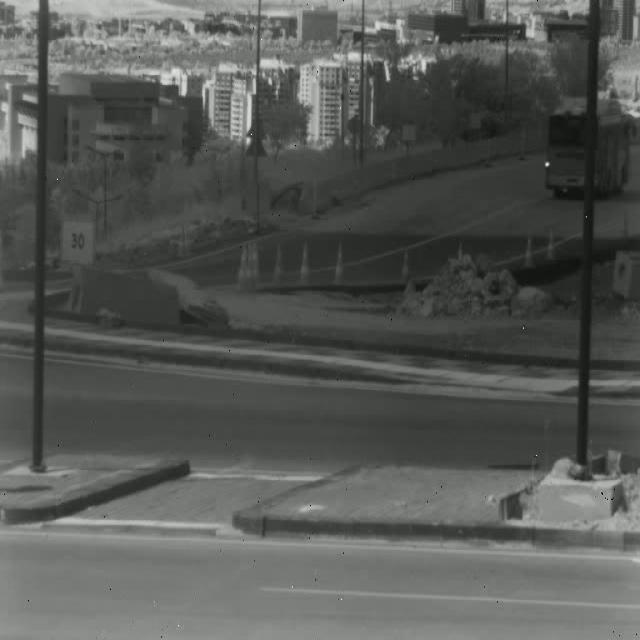Bus: (544, 98, 630, 201)
